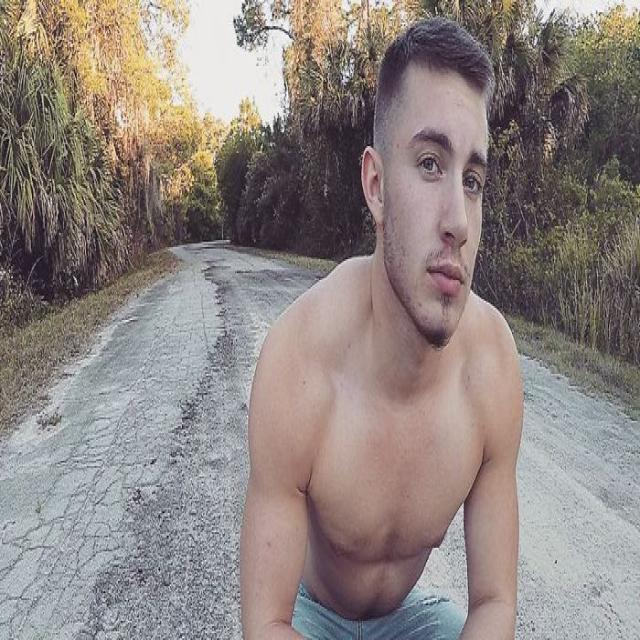human: (235, 12, 530, 640)
